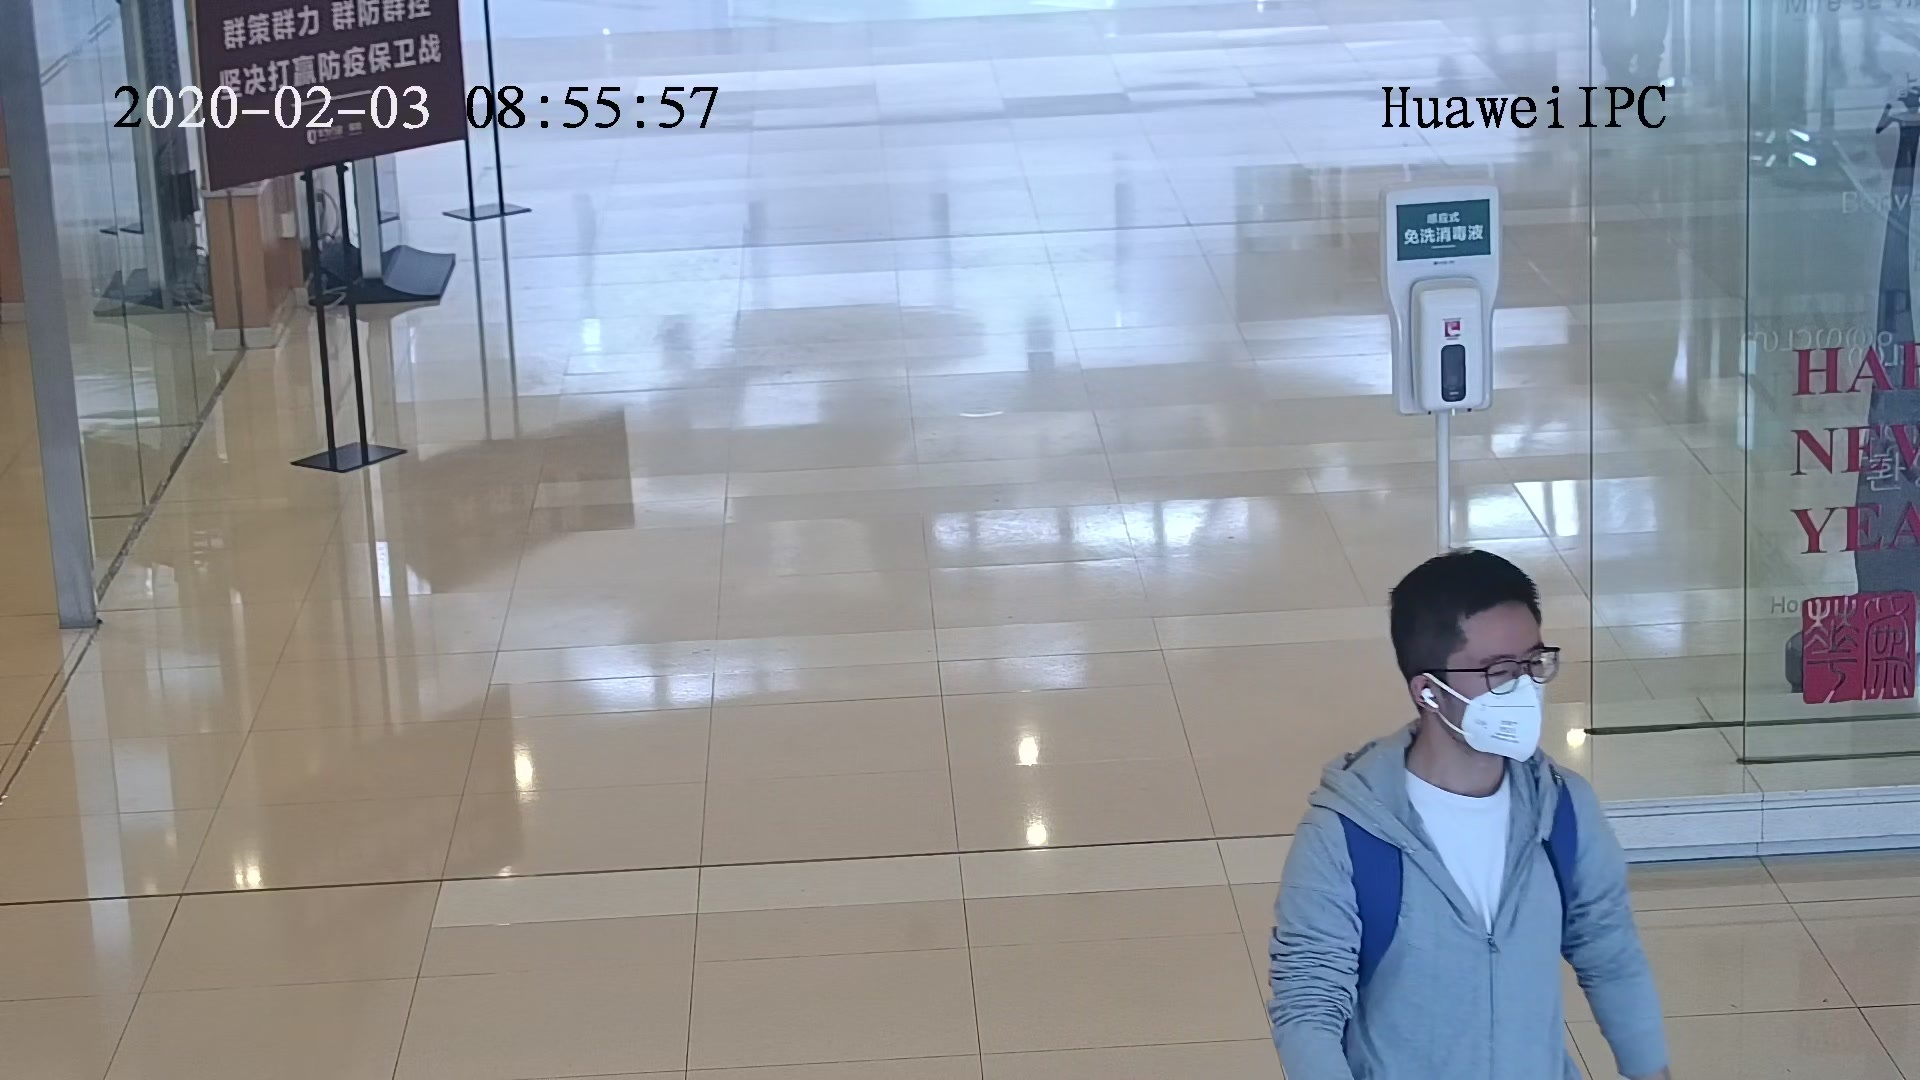face: (1446, 622, 1544, 766)
mask: (1446, 678, 1539, 761)
person: (1282, 536, 1618, 898)
